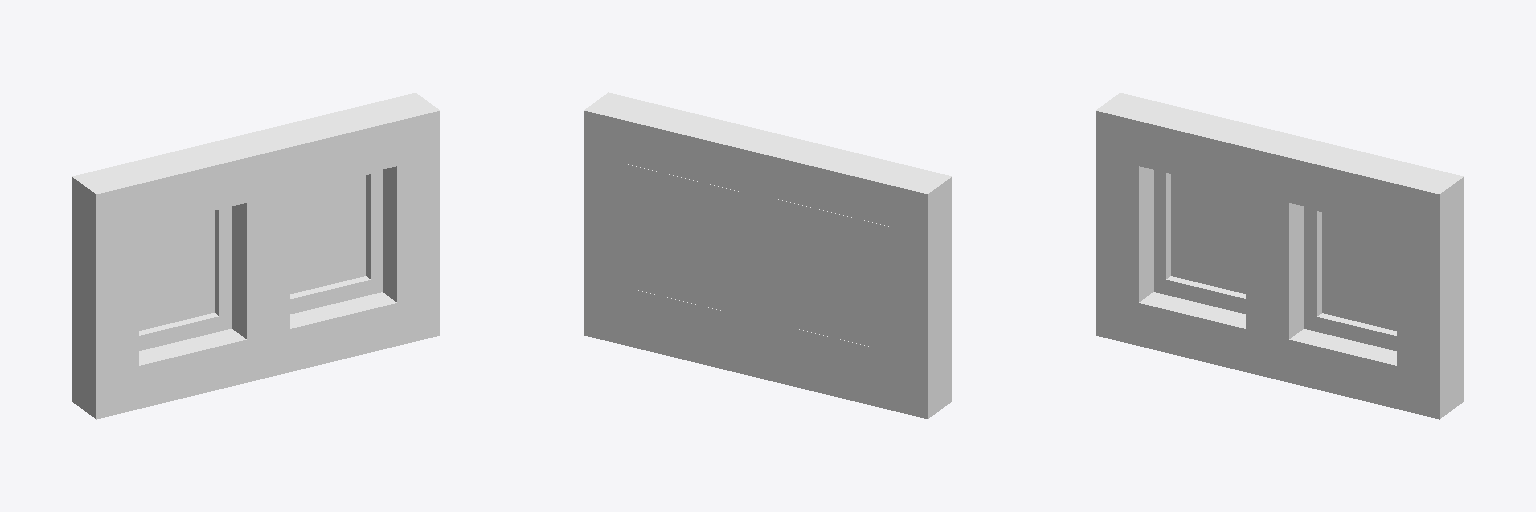
The model's file is Windows_simple_white.obj.
3 views of the same model, side by side, from view 1: azimuth 30°, elevation 25°; view 2: azimuth 150°, elevation 25°; view 3: azimuth 330°, elevation 25° (orthographic).
Visible parts, largest first — view 1: building-windows, window-white.001, window-white; view 2: building-windows, window-white, window-white.001; view 3: building-windows, window-white.001, window-white.
Boxes of the visible parts, box(x1,y1,x2,y2) form: building-windows: box(72, 93, 439, 419); window-white.001: box(290, 170, 382, 313); window-white: box(139, 207, 231, 350); building-windows: box(584, 92, 951, 418); window-white: box(771, 198, 889, 369); window-white.001: box(620, 163, 738, 332); building-windows: box(1096, 93, 1463, 419); window-white.001: box(1304, 207, 1396, 350); window-white: box(1154, 170, 1245, 313).
Size of the model in its own units: 1 by 0.625 by 0.1246.